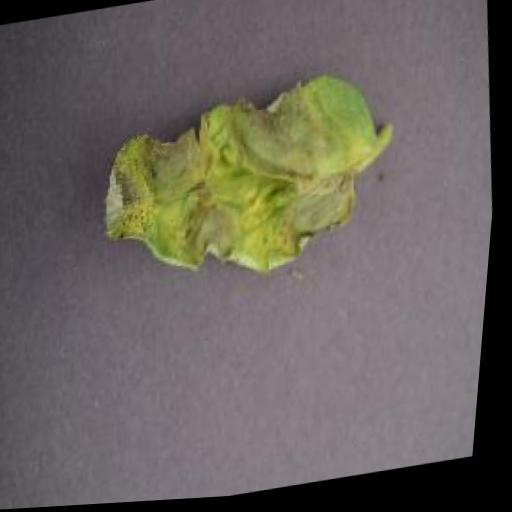Late Blight: (86, 66, 398, 304)
